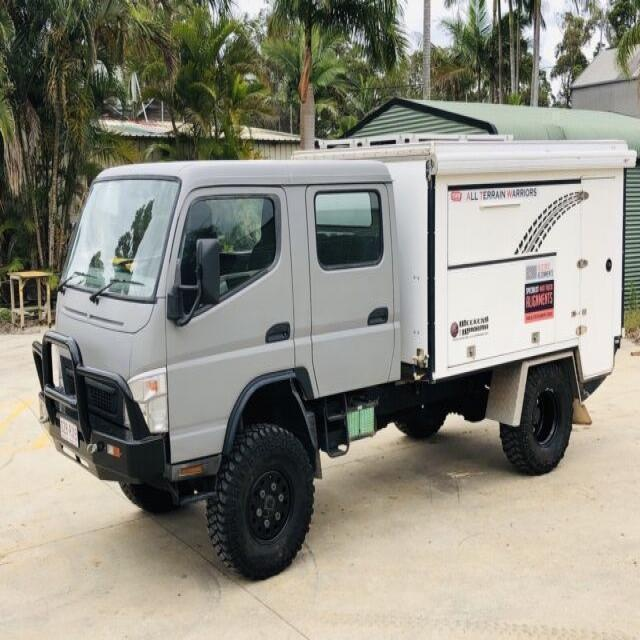Truck: (32, 136, 635, 583)
